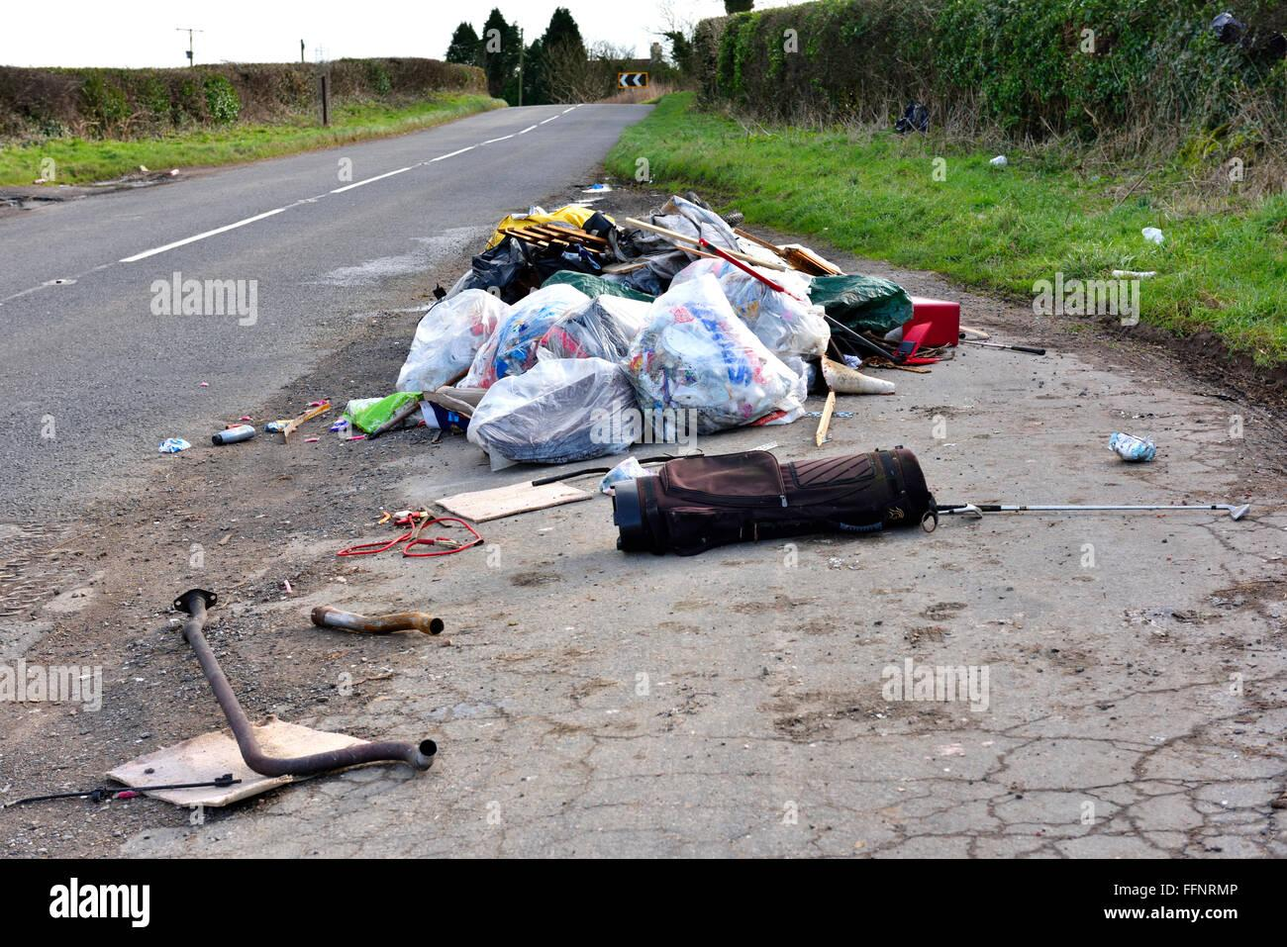road: (86, 236, 316, 344), (343, 139, 575, 190)
sky: (4, 2, 446, 55)
trash: (431, 203, 867, 439)
